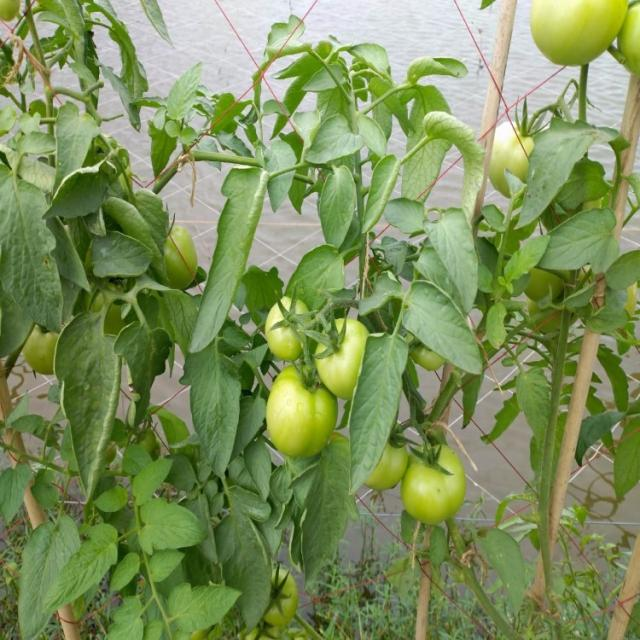tomato: (527, 1, 640, 79), (413, 437, 466, 528), (267, 391, 346, 452), (317, 299, 365, 387), (490, 118, 545, 189), (365, 424, 409, 501), (263, 295, 311, 363), (155, 226, 198, 291), (24, 325, 71, 382), (529, 261, 575, 310), (264, 569, 301, 625), (90, 284, 127, 334), (407, 326, 448, 369), (617, 281, 639, 323)
